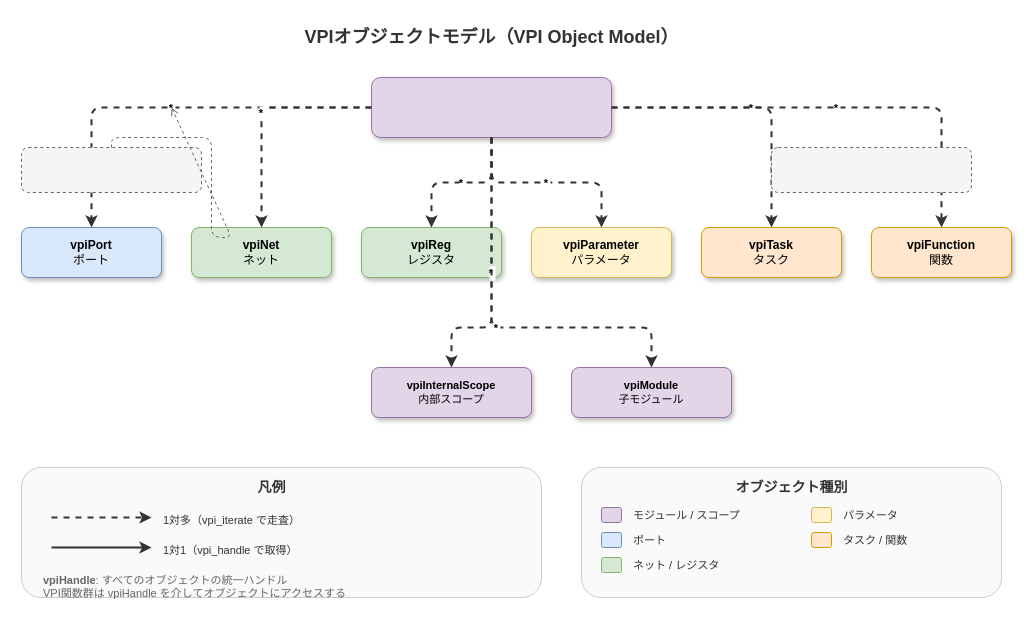
This 1035x617 diagram has some shape labels left out. The shapes that lost their labels are listed below. From the top down, each one's centre as x and y in pixels, then its label:
At point (492, 108): "vpiModule （モジュールオブジェクト）".
At point (111, 169): "vpi_iterate() オブジェクトの反復走査".
At point (871, 169): "vpi_handle() 単一オブジェクトへのアクセス".
